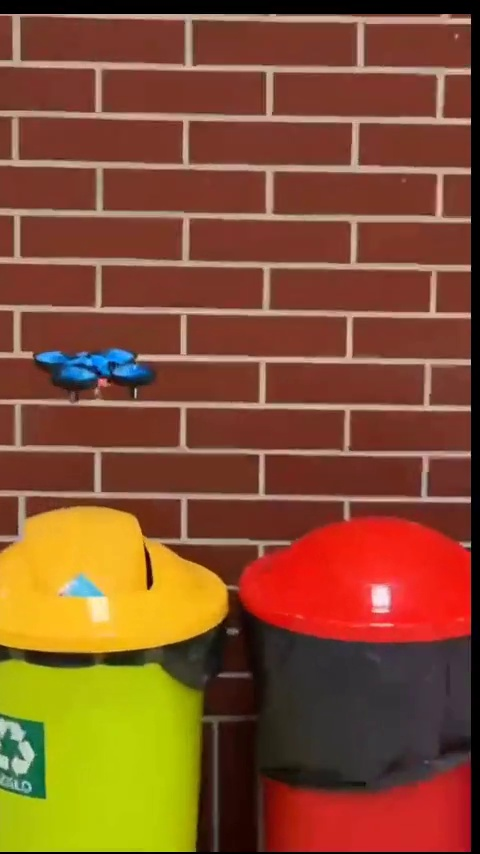drone: (29, 347, 150, 405)
